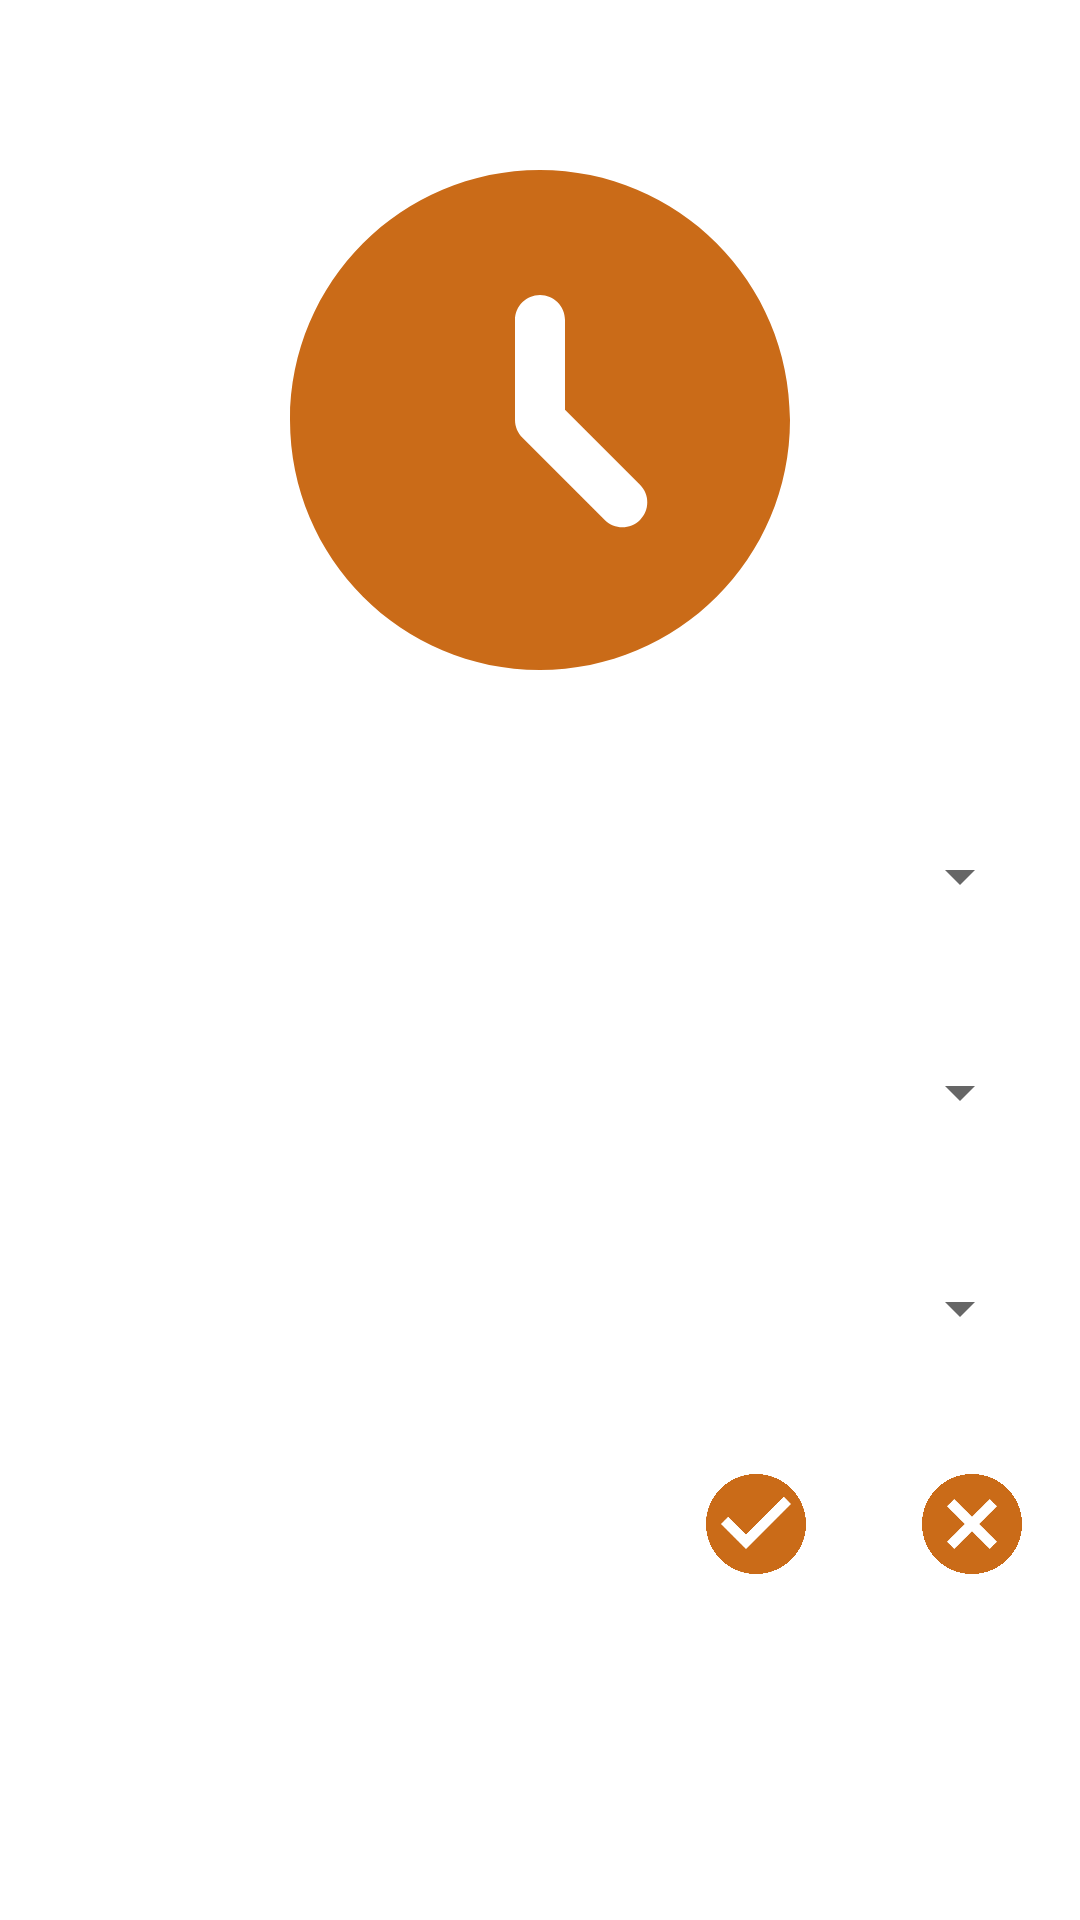

Where to tap for icons on this 1080px×1920px app screen, as (x,y):
cancel: (972,1524)
check circle: (756,1524)
